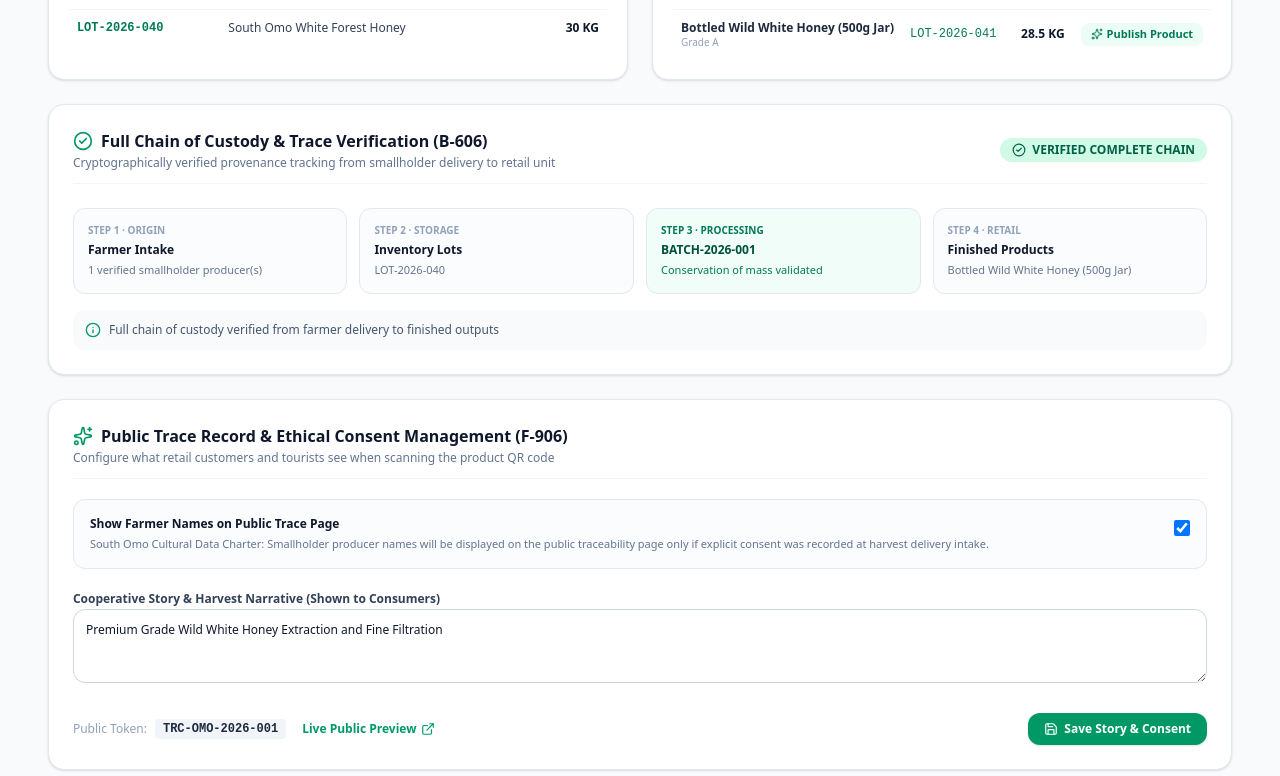
F-905 & F-906: Production Batch Detail, Lifecycle, Trace Validation & Public Story › toggles farmer consent, edits story, and saves trace record (F-906)
(page scrolled)
Expected: the element with test id "section-trace-management" is shown, [48,399,1232,770]
Note: Toggle consent off
Click the checkbox with test id "farmer-consent-toggle": click(1182, 528) [1174,520,1190,536]
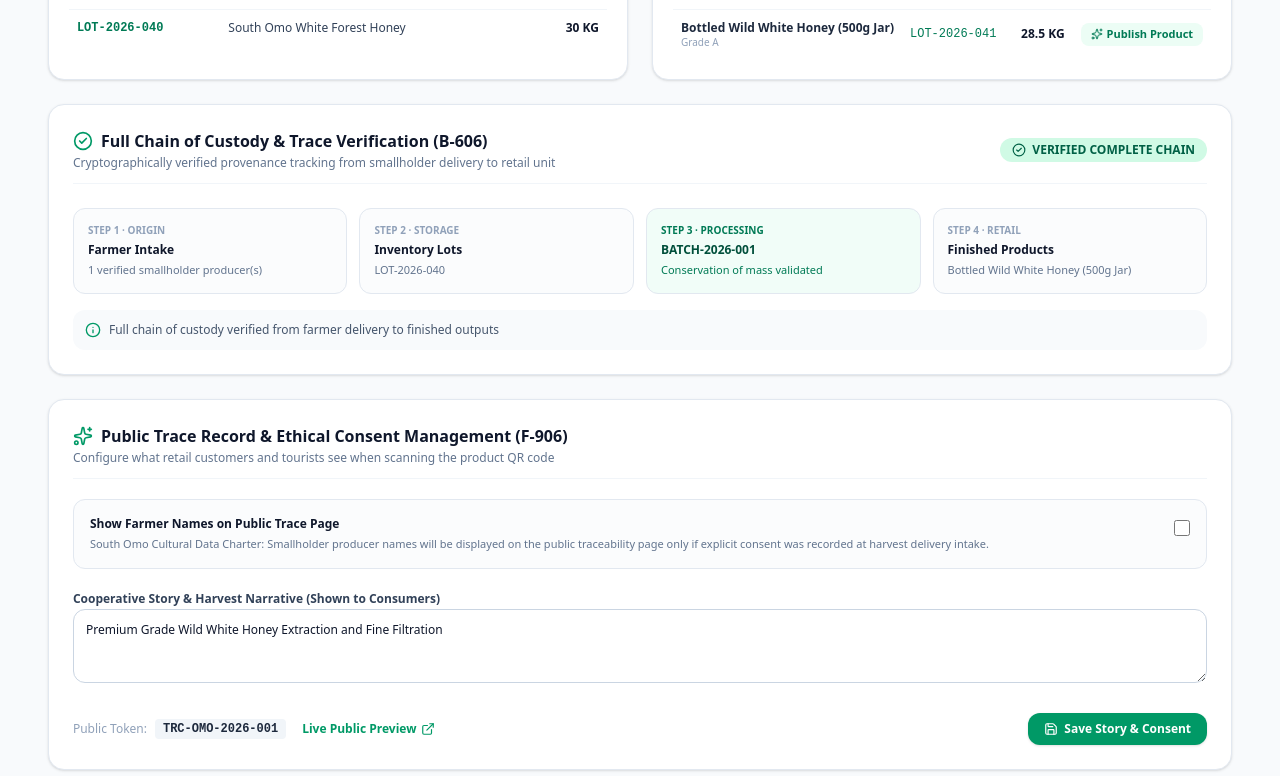
Now the checkbox with test id "farmer-consent-toggle" is not checked, box [1174,520,1190,536]
Note: Edit story
Replace the text in the text box with test id "public-story-textarea" with "Harvested in the pristine highlands with solar extraction.": (640, 646) [73,609,1207,683]
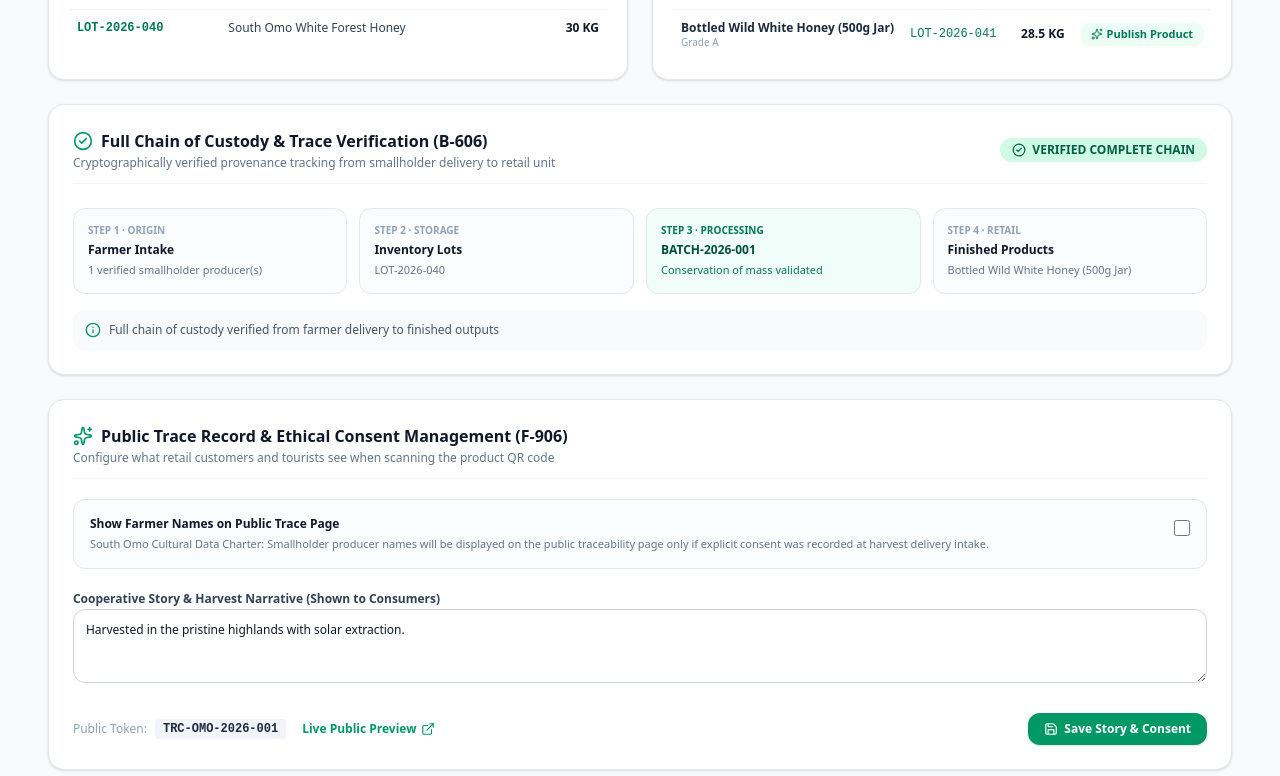
Click the button with test id "save-story-btn": click(1118, 729) [1028,713,1207,745]
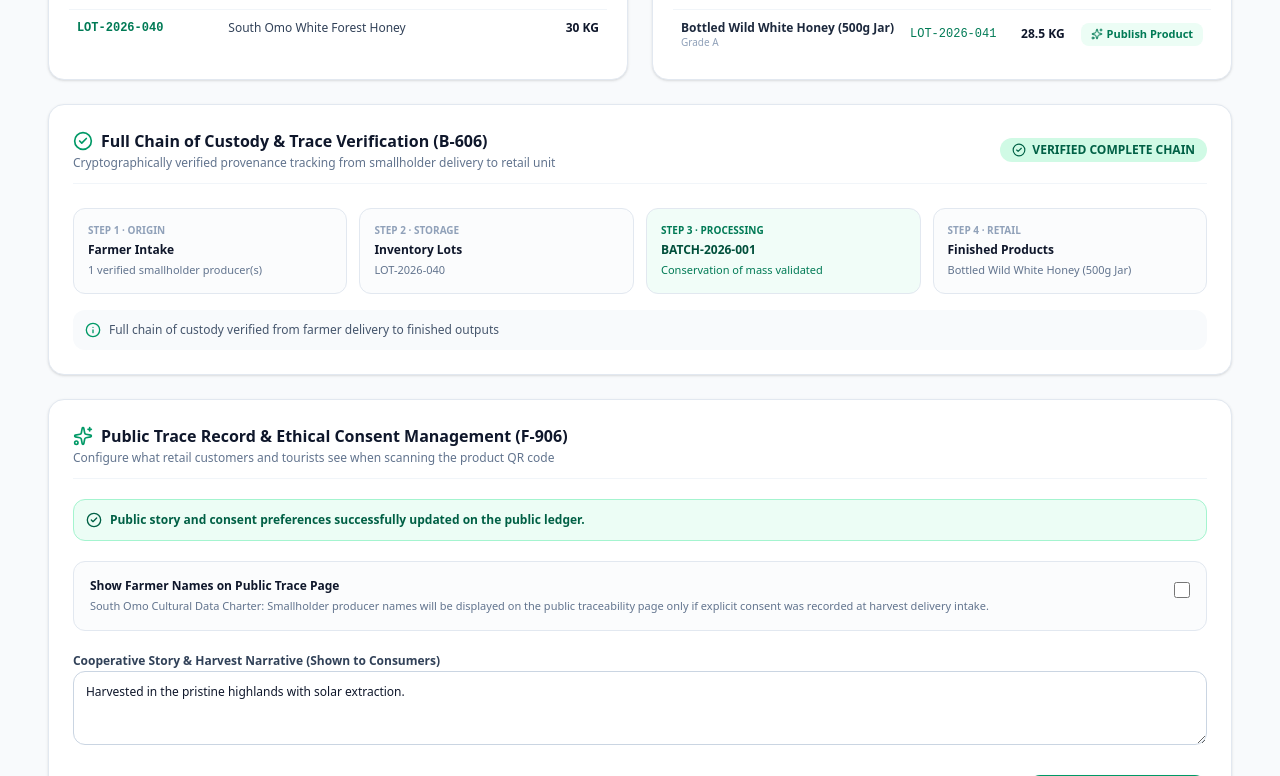
Now the element with test id "story-saved-banner" is shown, box [73,499,1207,541]
